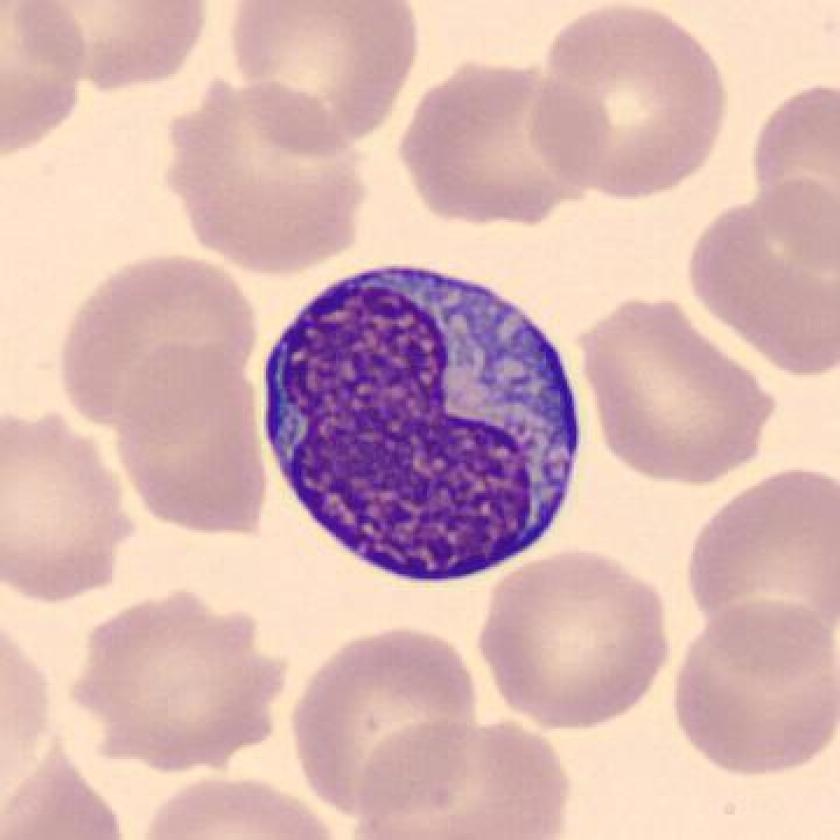monocyte: (244, 247, 601, 601)
